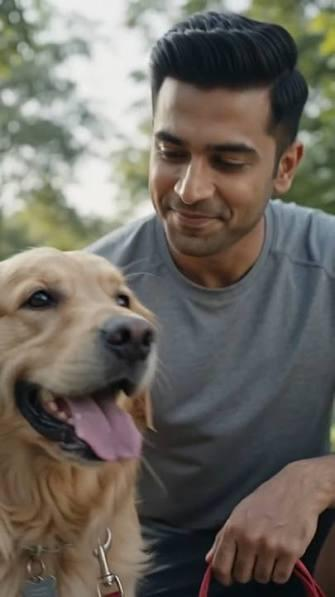adult_dog: (1, 247, 161, 597)
non-dog: (75, 12, 335, 588)
